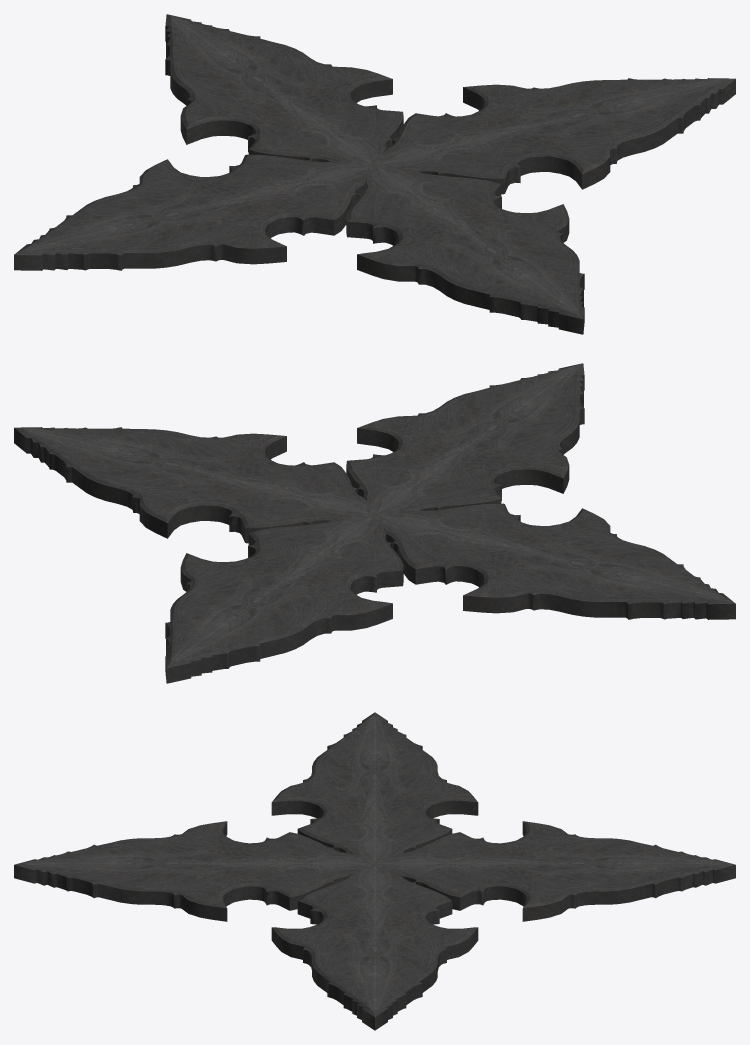
The model's file is bg_rad_kamen_floor10_sm.obj.
3 views of the same model, one above another, from view 1: azimuth 30°, elevation 25°; view 2: azimuth 150°, elevation 25°; view 3: azimuth 270°, elevation 25° (orthographic). The views are drawn at different scales.
Visible parts, largest first — view 1: bg_rad_kamen_floor10_sm_0; view 2: bg_rad_kamen_floor10_sm_0; view 3: bg_rad_kamen_floor10_sm_0.
Part boxes in pixels (x1=…): bg_rad_kamen_floor10_sm_0: x1=14, y1=14, x2=735, y2=334; bg_rad_kamen_floor10_sm_0: x1=14, y1=363, x2=735, y2=683; bg_rad_kamen_floor10_sm_0: x1=14, y1=712, x2=735, y2=1030.
Bounding box in the file's own units: 4.36 × 0.1001 × 4.36.
Materials: 1 (1 with a texture image).
